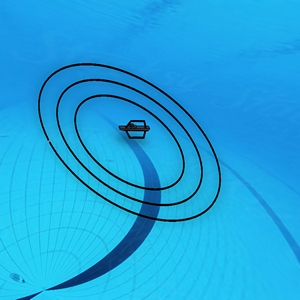circle: (36, 49, 229, 230)
submarine: (118, 119, 150, 141)
